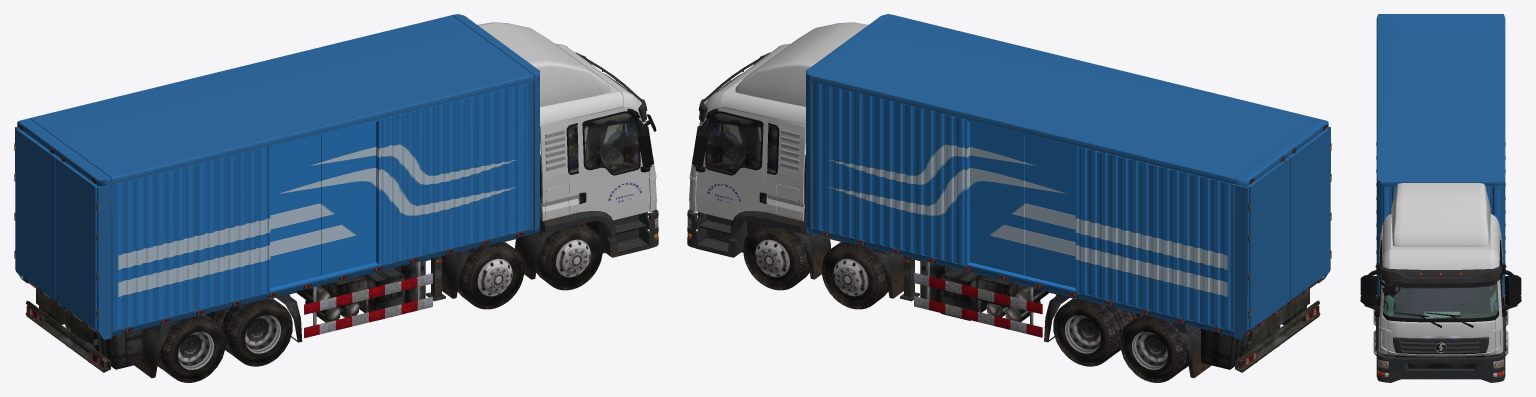
The model's file is zhonghuo.glb.
The picture shows the model from 3 angles, left to right: view 1: azimuth 30°, elevation 25°; view 2: azimuth 150°, elevation 25°; view 3: azimuth 270°, elevation 25°; orthographic projection. The views are drawn at different scales.
Parts seen in each view (by area): view 1: TEMPORARY_IMPORT_NAMESPACE_中__polySurfaceSh471; view 2: TEMPORARY_IMPORT_NAMESPACE_中__polySurfaceSh471; view 3: TEMPORARY_IMPORT_NAMESPACE_中__polySurfaceSh471.
Part boxes in pixels (box(x1,y1,x2,y2)): TEMPORARY_IMPORT_NAMESPACE_中__polySurfaceSh471: box(14, 14, 658, 382); TEMPORARY_IMPORT_NAMESPACE_中__polySurfaceSh471: box(687, 14, 1331, 382); TEMPORARY_IMPORT_NAMESPACE_中__polySurfaceSh471: box(1360, 14, 1521, 382).
Size of the model in its own units: 9.25 by 3.47 by 2.91.
1 material, 1 textured.
